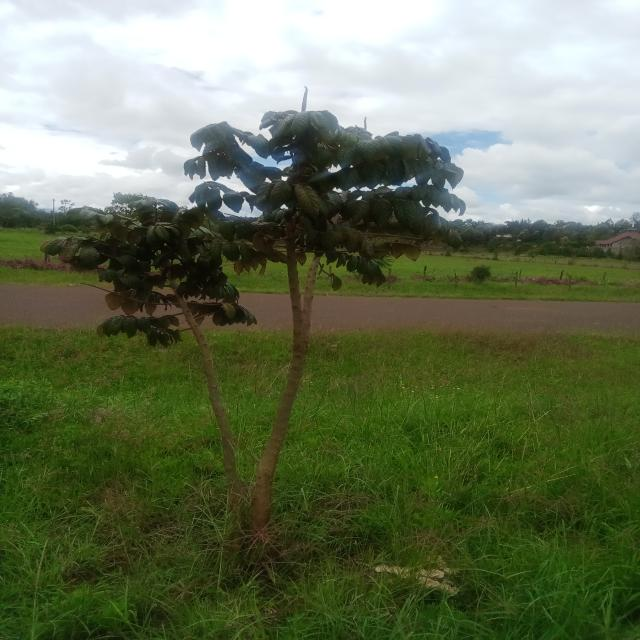Polyscias Kikuyensis: (44, 103, 468, 544)
